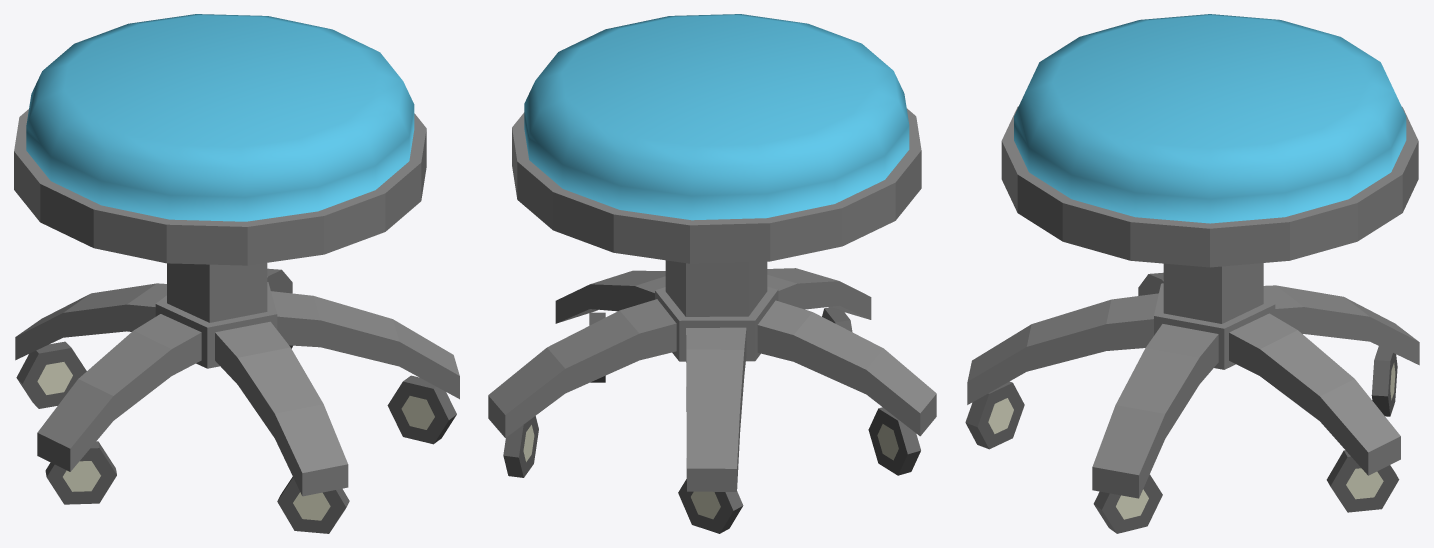
File: seat-hospital.fbx
3 renders of one model, left to right at view 1: azimuth 30°, elevation 25°; view 2: azimuth 150°, elevation 25°; view 3: azimuth 270°, elevation 25°, orthographic.
Parts seen in each view (by area): view 1: seat-hospital; view 2: seat-hospital; view 3: seat-hospital.
Part boxes in pixels (<box>): seat-hospital: <box>14,14,459,533</box>; seat-hospital: <box>488,14,936,533</box>; seat-hospital: <box>965,14,1419,533</box>.
Size of the model in its own units: 119 by 106 by 120.
